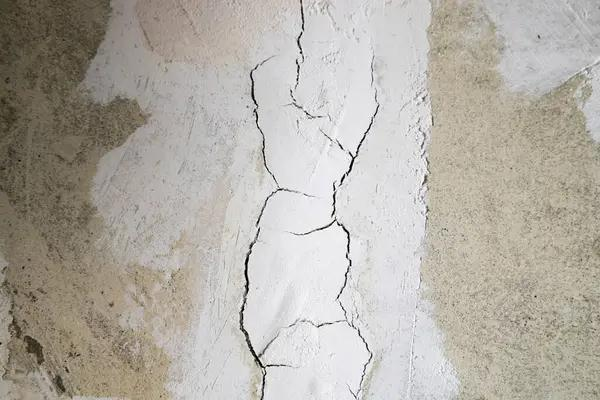Crack: (234, 0, 388, 399)
